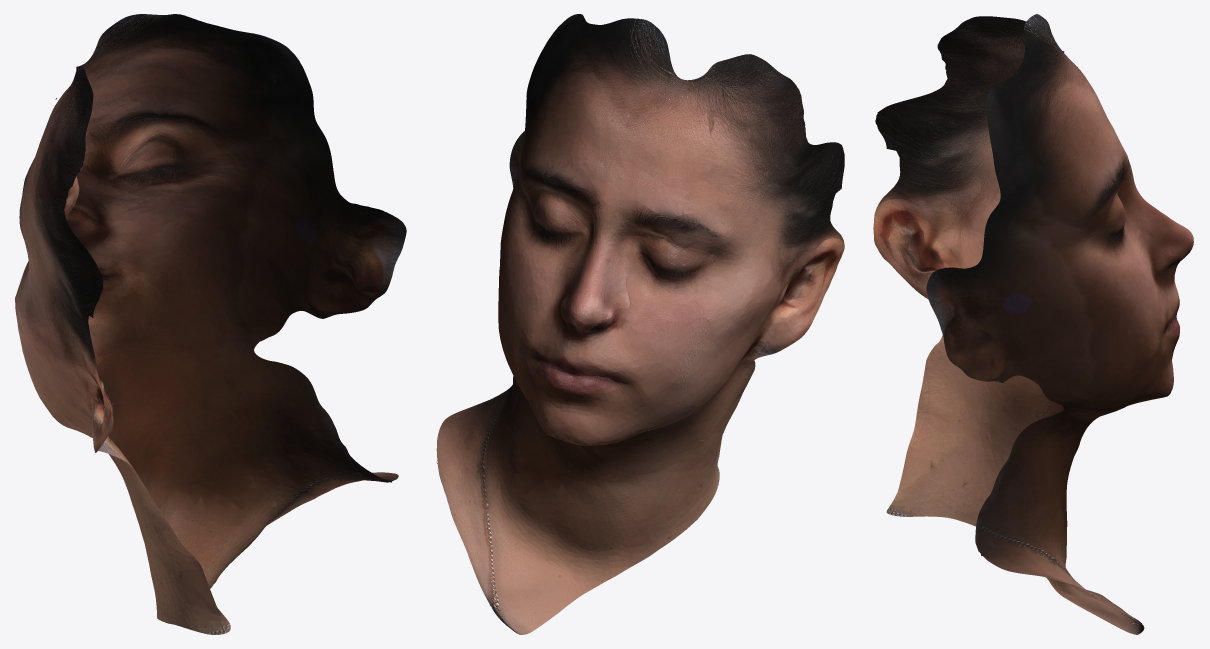
The model's file is BUSTO_2.obj.
3 views of the same model, side by side, from view 1: azimuth 30°, elevation 25°; view 2: azimuth 150°, elevation 25°; view 3: azimuth 270°, elevation 25° (orthographic). The views are drawn at different scales.
Visible parts, largest first — view 1: BUSTO_2; view 2: BUSTO_2; view 3: BUSTO_2.
Boxes of the visible parts, x1=… form: BUSTO_2: x1=15, y1=14, x2=406, y2=634; BUSTO_2: x1=436, y1=14, x2=844, y2=634; BUSTO_2: x1=873, y1=14, x2=1193, y2=634.
Size of the model in its own units: 3.91 by 6.61 by 3.32.
1 material, 1 textured.
